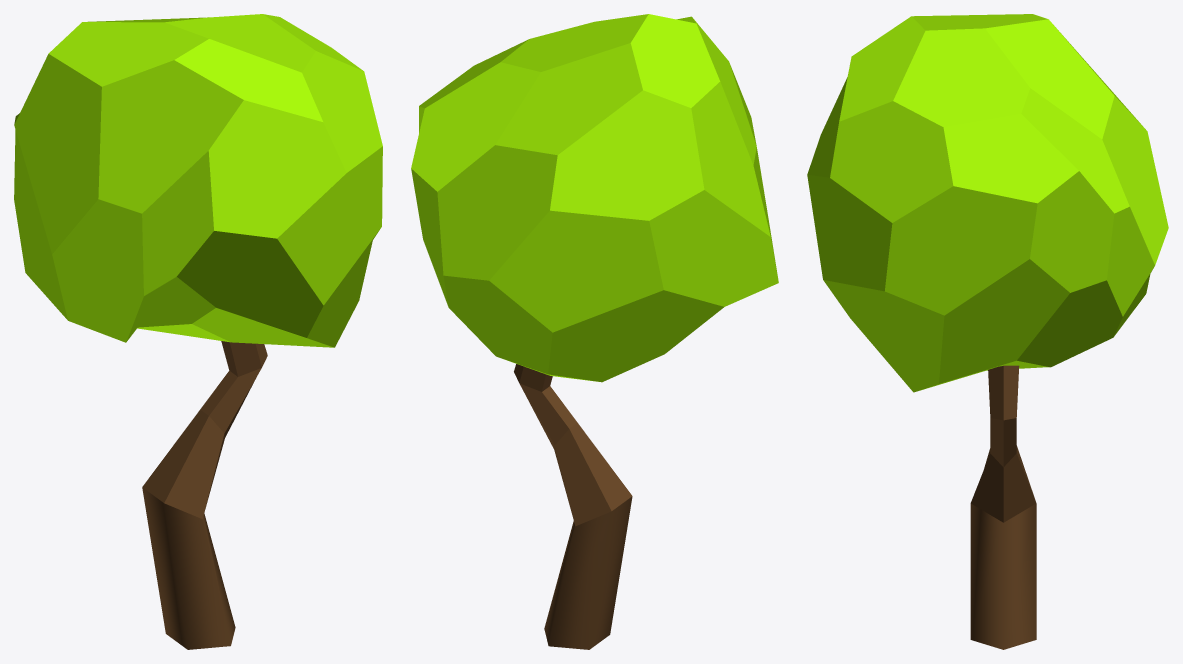
The model's file is AGAC_3.fbx.
3 views of the same model, side by side, from view 1: azimuth 30°, elevation 25°; view 2: azimuth 150°, elevation 25°; view 3: azimuth 270°, elevation 25° (orthographic). The views are drawn at different scales.
Visible parts, largest first — view 1: Hedra001, Cylinder002; view 2: Hedra001, Cylinder002; view 3: Hedra001, Cylinder002.
Part boxes in pixels (left/top/right/bottom): Hedra001: left=14, top=14, right=382, bottom=347; Cylinder002: left=142, top=341, right=267, bottom=649; Hedra001: left=411, top=14, right=778, bottom=382; Cylinder002: left=514, top=364, right=632, bottom=649; Hedra001: left=807, top=14, right=1168, bottom=392; Cylinder002: left=970, top=365, right=1036, bottom=649.
Size of the model in its own units: 687 by 1267 by 705.
